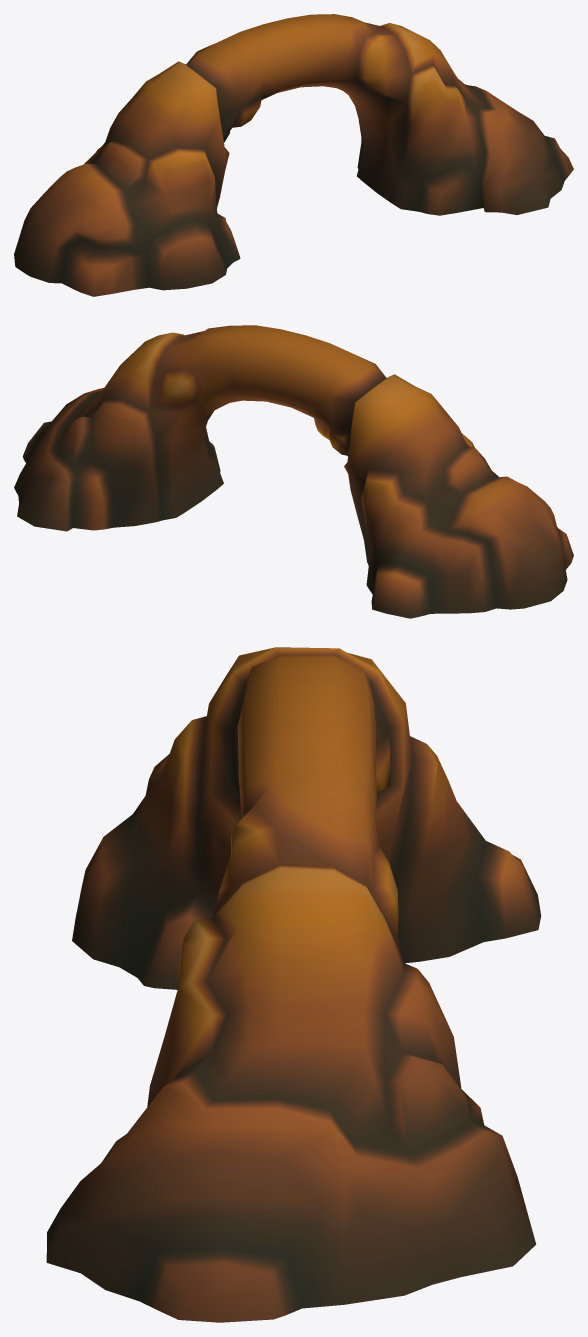
The model's file is m_Arch01_B.fbx.
3 renders of one model, top to bottom at view 1: azimuth 30°, elevation 25°; view 2: azimuth 150°, elevation 25°; view 3: azimuth 270°, elevation 25°, orthographic. The views are drawn at different scales.
Visible parts, largest first — view 1: m_Arch01_B; view 2: m_Arch01_B; view 3: m_Arch01_B.
Boxes of the visible parts, <box> form: m_Arch01_B: <box>14,14,573,296</box>; m_Arch01_B: <box>14,325,573,618</box>; m_Arch01_B: <box>46,647,541,1322</box>.
Size of the model in its own units: 1617 by 541 by 663.
